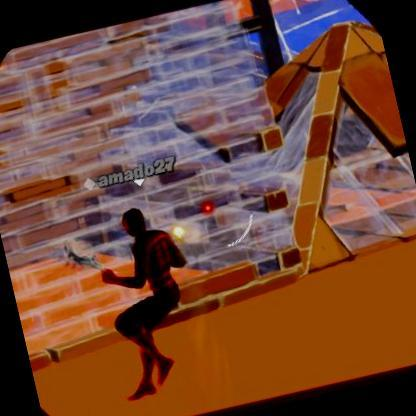person: (83, 197, 216, 406)
